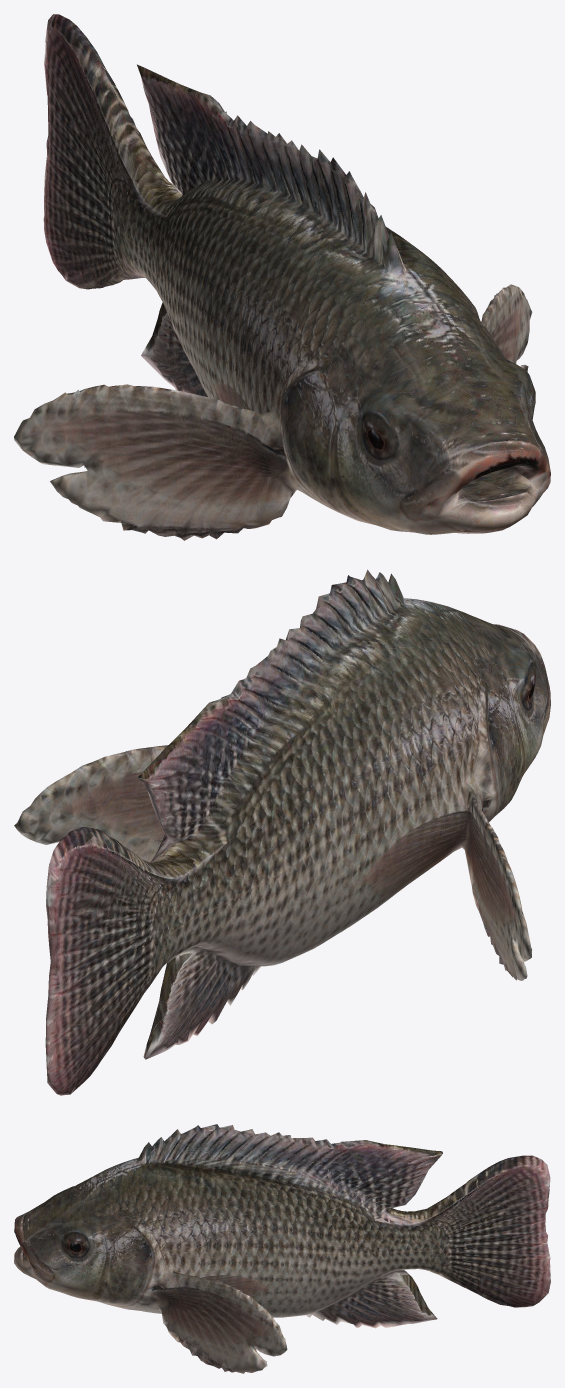
File: fish_tilapia.glb
3 views of the same model, one above another, from view 1: azimuth 30°, elevation 25°; view 2: azimuth 150°, elevation 25°; view 3: azimuth 270°, elevation 25° (orthographic). The views are drawn at different scales.
Parts seen in each view (by area): view 1: geometry_0; view 2: geometry_0; view 3: geometry_0.
Part boxes in pixels (bbox=[...]): geometry_0: bbox=[14, 14, 550, 540]; geometry_0: bbox=[14, 569, 550, 1095]; geometry_0: bbox=[14, 1124, 550, 1373].
Bounding box in the file's own units: 1.27 × 0.8241 × 1.96.
1 material, 1 textured.
